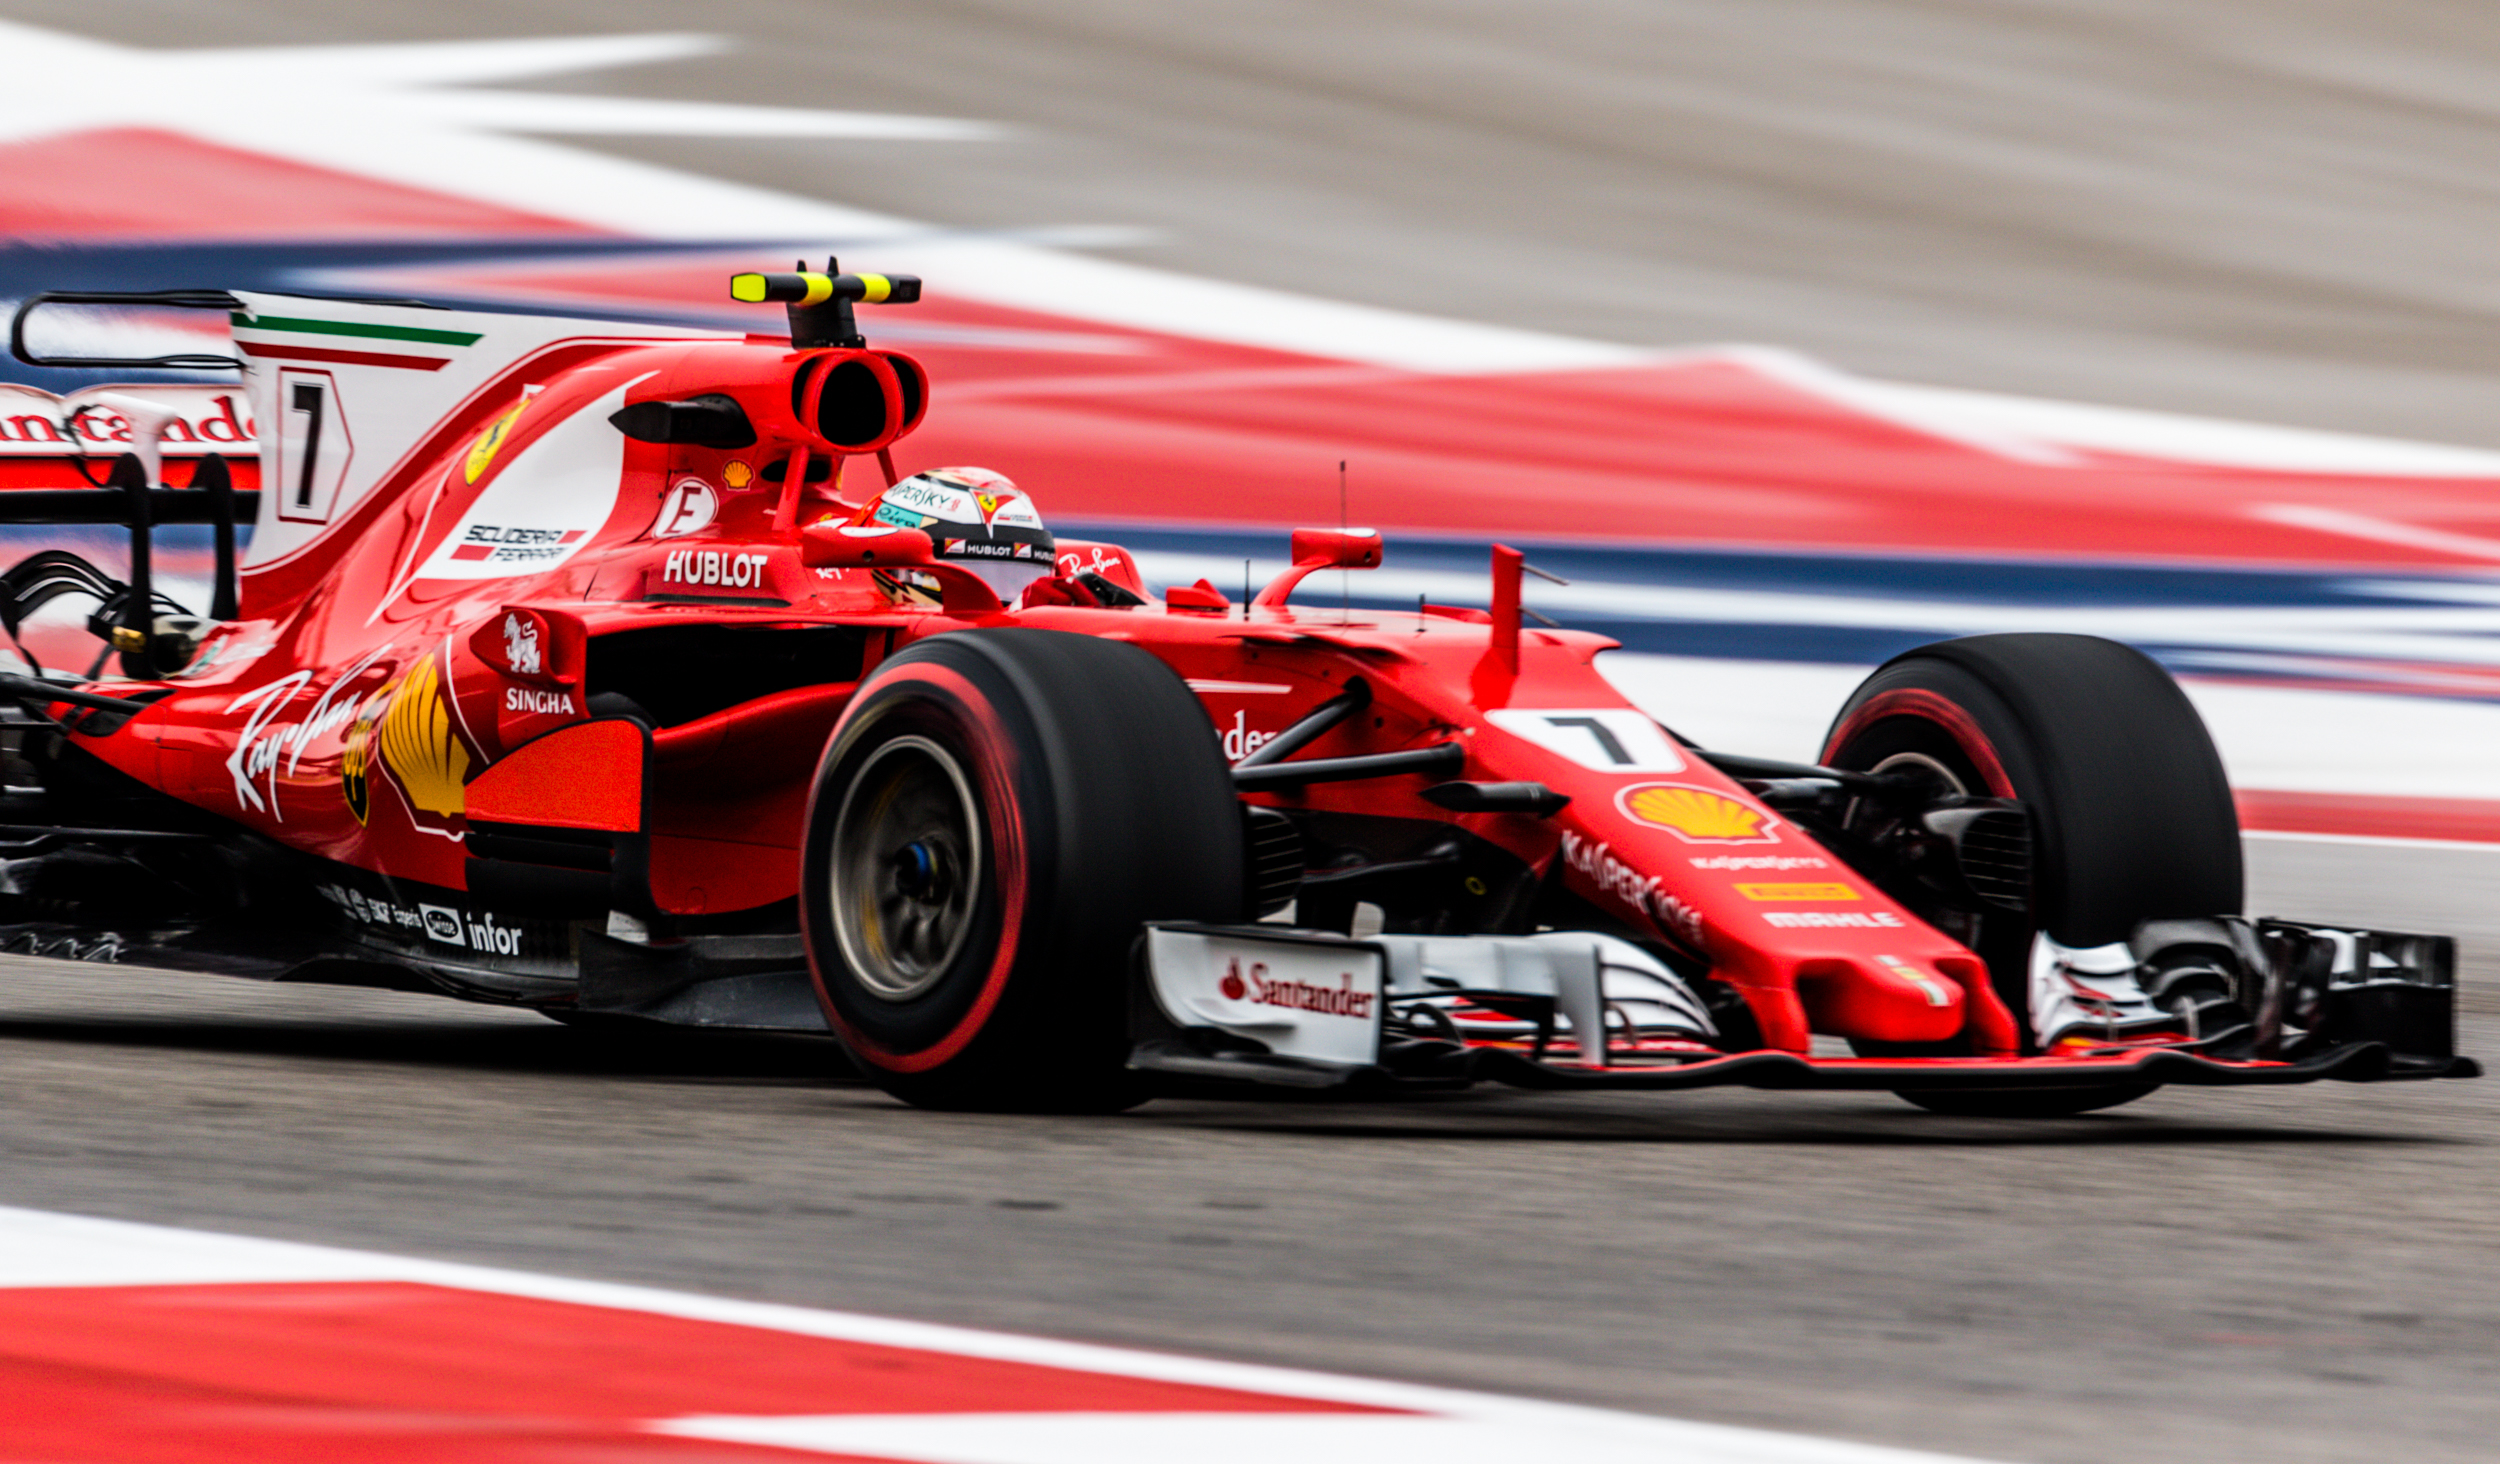f1_car: (2, 253, 2500, 1150)
